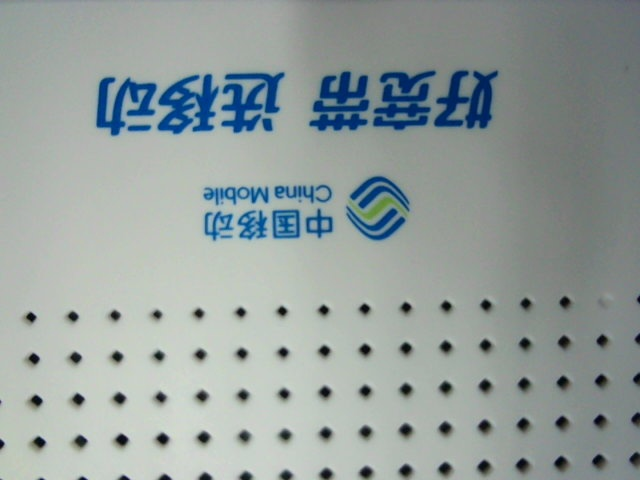AA_ChinaMobile: (72, 61, 512, 241)
